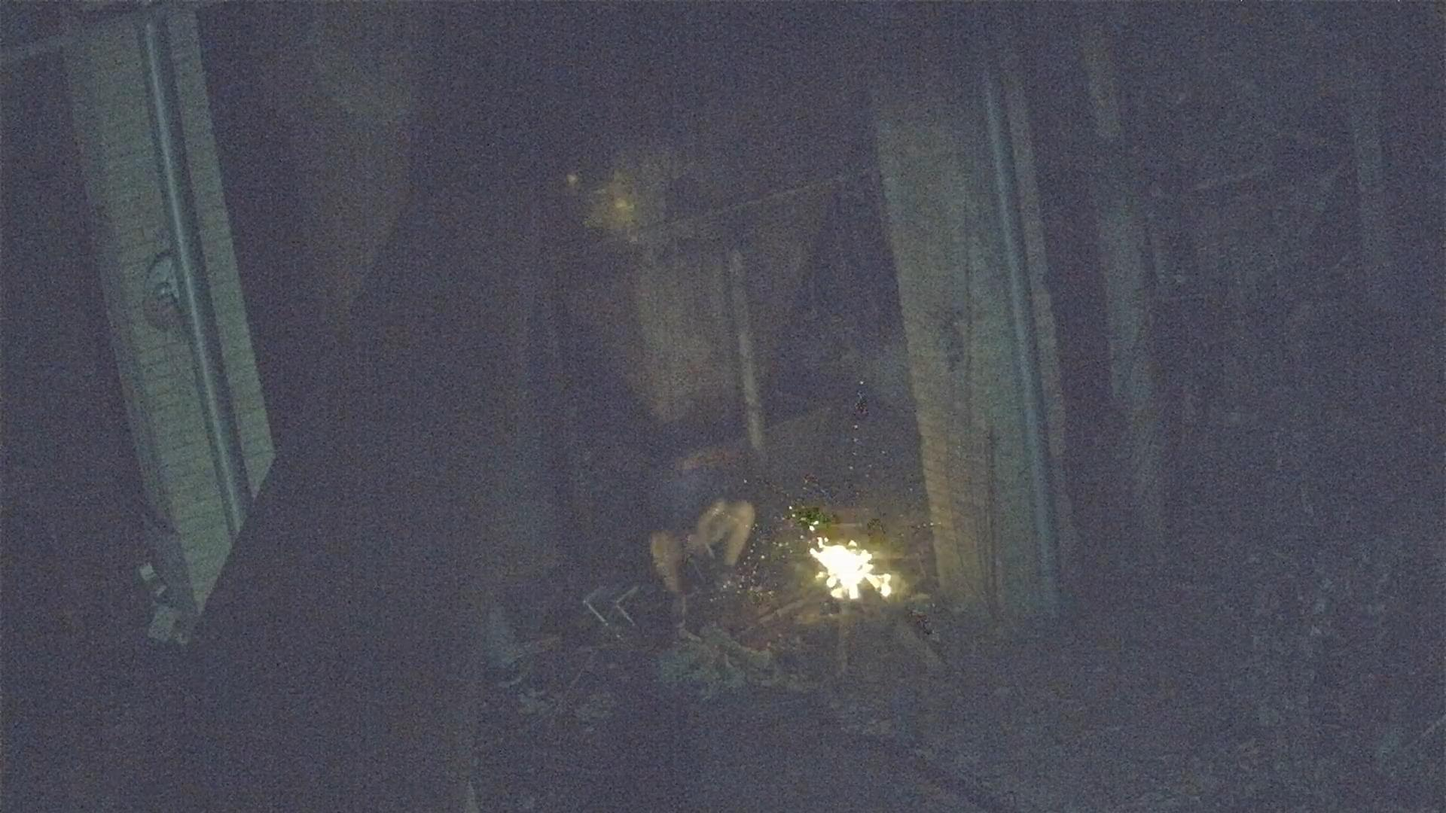fire: (810, 538, 892, 601)
